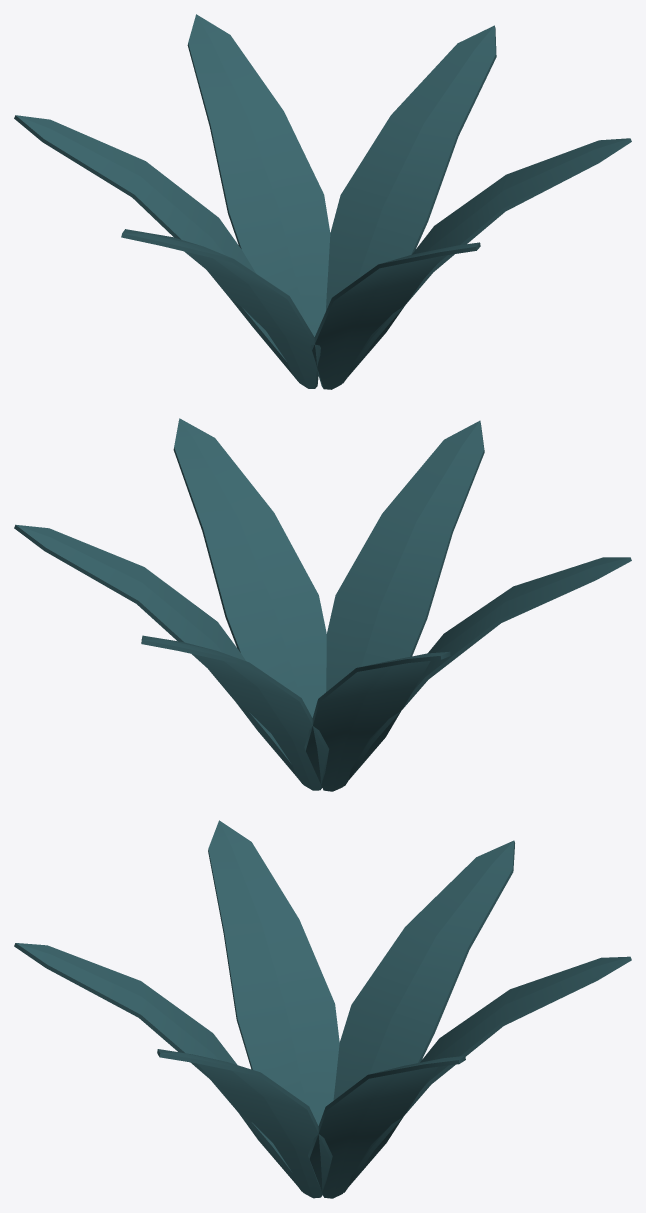
File: Bush_5.fbx
The picture shows the model from 3 angles, top to bottom: view 1: azimuth 30°, elevation 25°; view 2: azimuth 150°, elevation 25°; view 3: azimuth 270°, elevation 25°; orthographic projection.
Visible parts, largest first — view 1: Plane.001; view 2: Plane.001; view 3: Plane.001.
Part boxes in pixels (box(x1,y1,x2,y2)): Plane.001: box(14, 14, 631, 389); Plane.001: box(14, 418, 631, 791); Plane.001: box(14, 820, 631, 1198).
Size of the model in its own units: 276 by 132 by 299.
